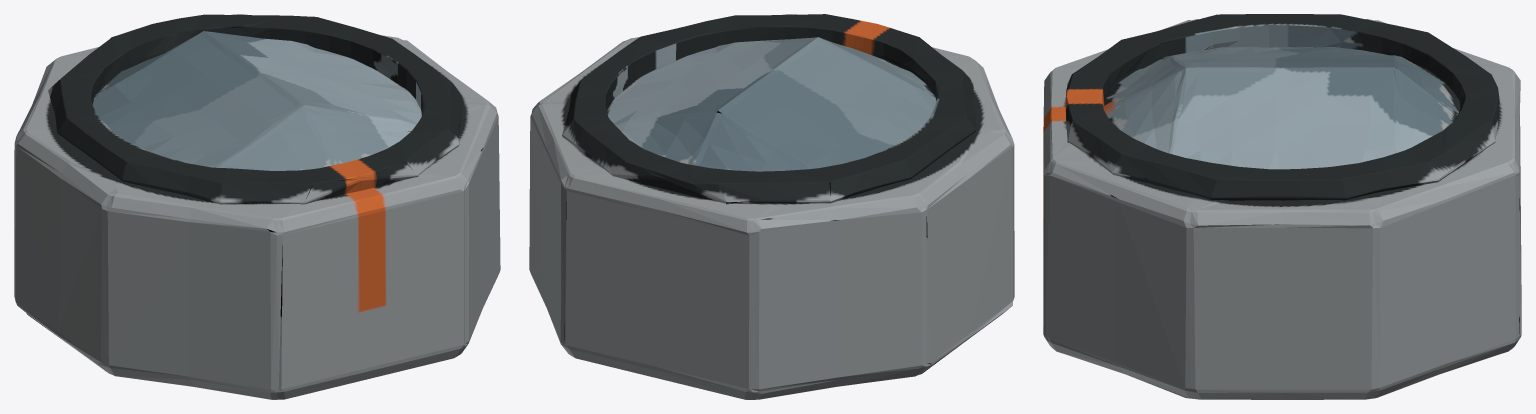
File: 22-corner-cube.fbx
The picture shows the model from 3 angles, left to right: view 1: azimuth 30°, elevation 25°; view 2: azimuth 150°, elevation 25°; view 3: azimuth 270°, elevation 25°; orthographic projection. The views are drawn at different scales.
Parts seen in each view (by area): view 1: geometry_0; view 2: geometry_0; view 3: geometry_0.
Boxes of the visible parts, <box> form: geometry_0: <box>14,14,500,399</box>; geometry_0: <box>529,14,1014,399</box>; geometry_0: <box>1043,14,1521,399</box>.
Bounding box in the file's own units: 0.08 × 0.0436 × 0.0797.
4 materials, 4 textured.
